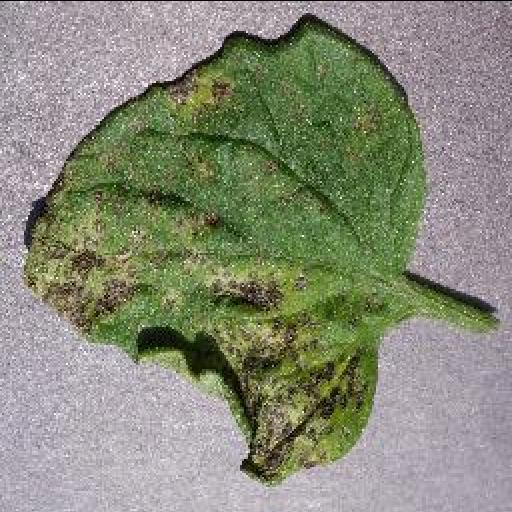disease_tomato: (19, 12, 421, 489)
